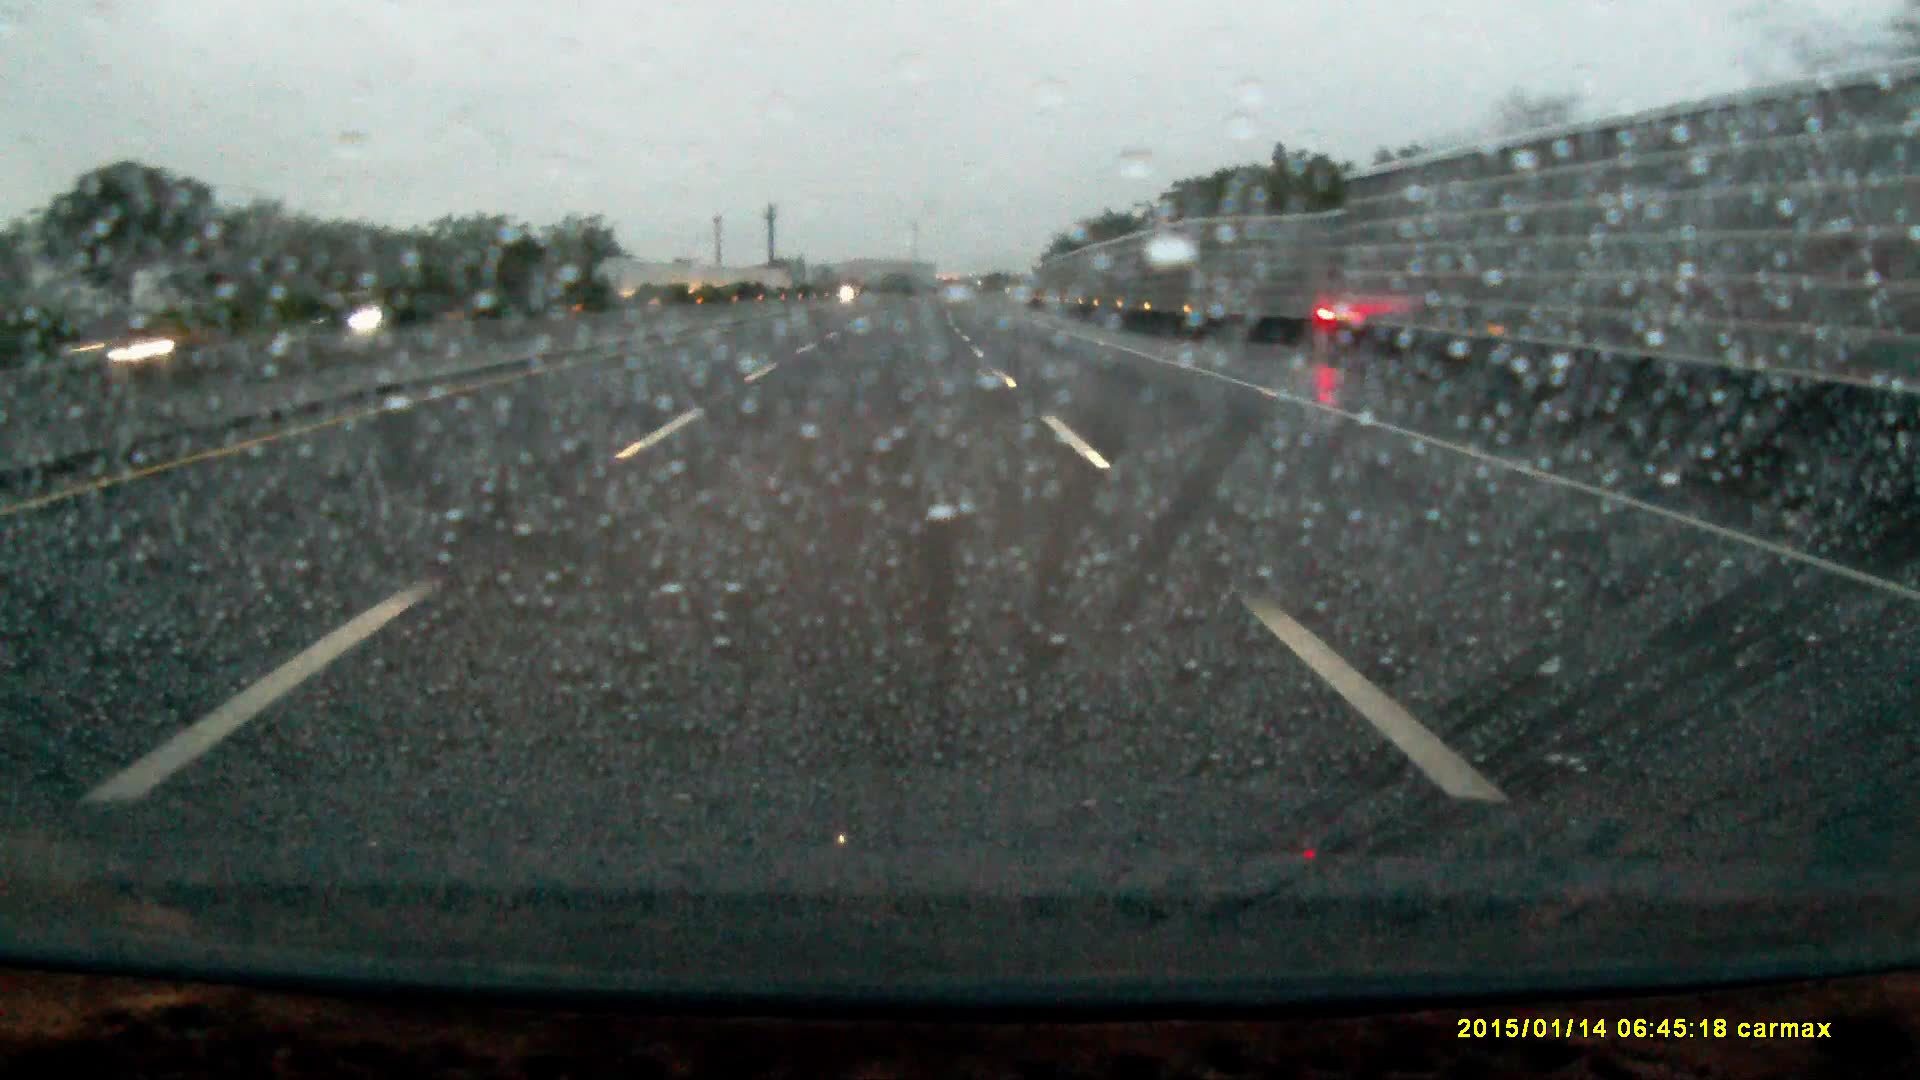vehicle: (281, 295, 381, 342)
